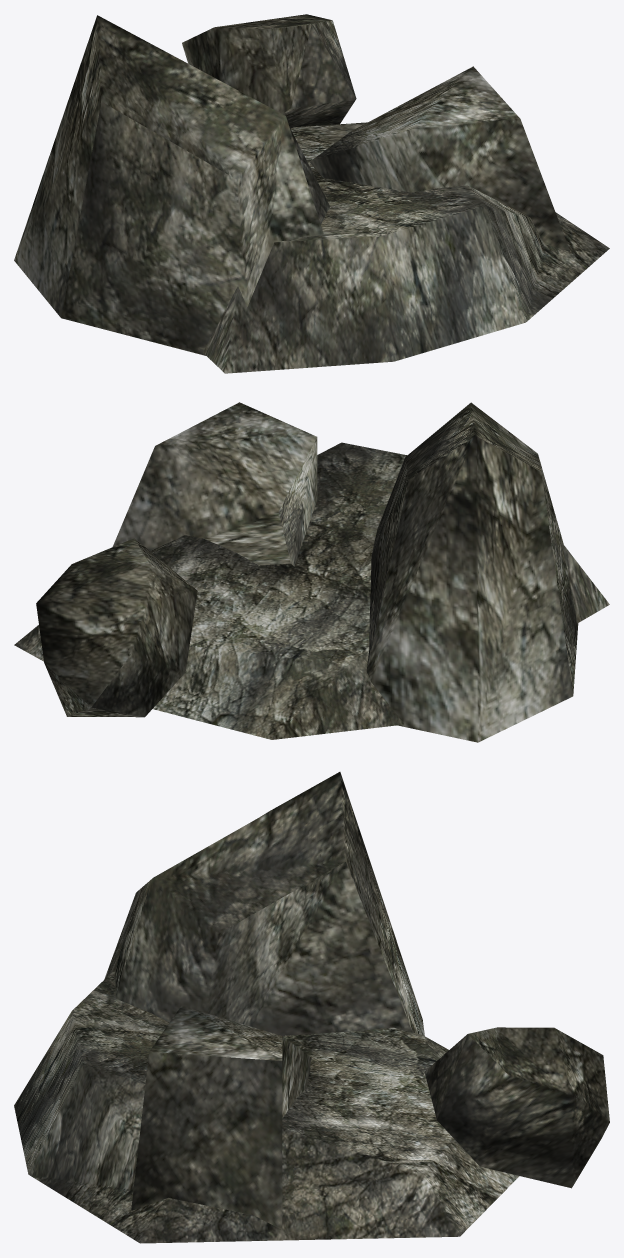
Rendered from doodad_rocks3.fbx.
The picture shows the model from 3 angles, top to bottom: view 1: azimuth 30°, elevation 25°; view 2: azimuth 150°, elevation 25°; view 3: azimuth 270°, elevation 25°; orthographic projection.
Parts seen in each view (by area): view 1: body; view 2: body; view 3: body.
Boxes of the visible parts, x1,y1,x2,y2 form: body: [14, 14, 609, 373]; body: [14, 402, 609, 742]; body: [14, 772, 609, 1243].
Size of the model in its own units: 2.87 by 1.52 by 3.03.
Materials: 1 (1 with a texture image).
